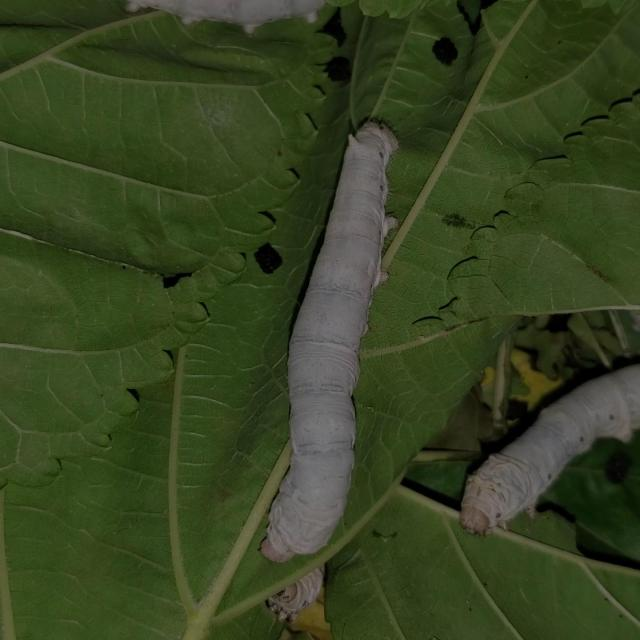Healthy: (247, 111, 403, 565), (450, 347, 452, 351)
